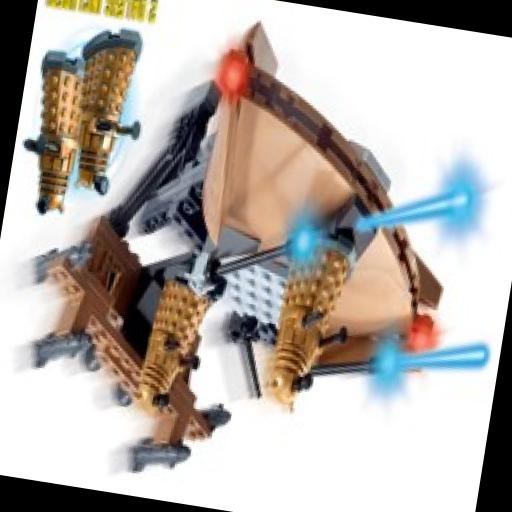dalek: (265, 224, 378, 424), (59, 23, 168, 205), (128, 260, 236, 432), (10, 48, 96, 221)
